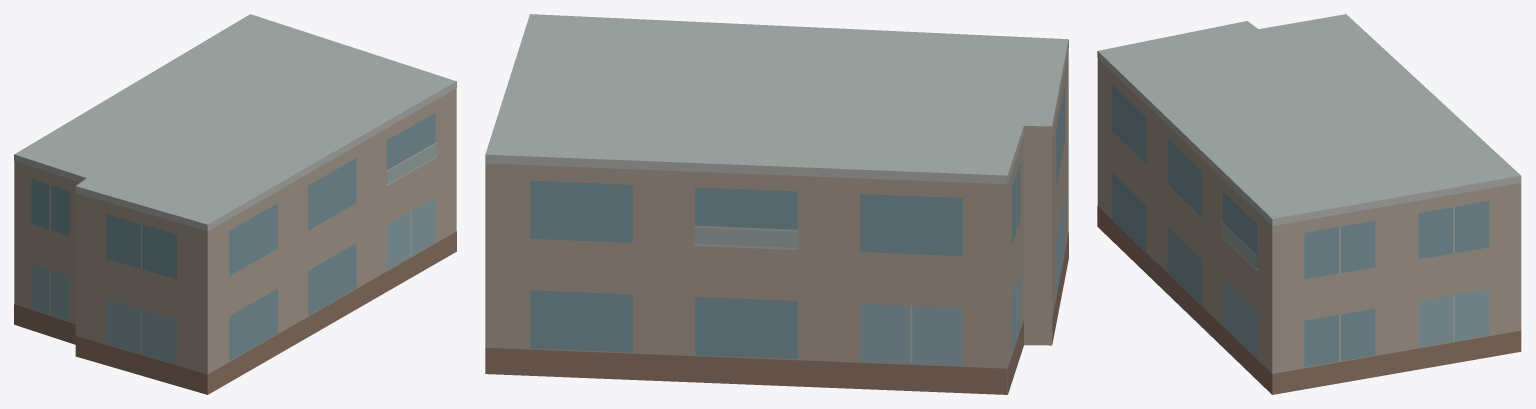
File: survey-upis-32525121.glb
3 views of the same model, side by side, from view 1: azimuth 30°, elevation 25°; view 2: azimuth 150°, elevation 25°; view 3: azimuth 270°, elevation 25° (orthographic). The views are drawn at different scales.
Visible parts, largest first — view 1: survey-upis-32525121.tmp; view 2: survey-upis-32525121.tmp; view 3: survey-upis-32525121.tmp.
Boxes of the visible parts, box(x1,y1,x2,y2) form: survey-upis-32525121.tmp: box(14, 14, 456, 394); survey-upis-32525121.tmp: box(485, 14, 1068, 394); survey-upis-32525121.tmp: box(1097, 14, 1521, 394).
Size of the model in its own units: 15.26 by 6.1 by 13.33.
